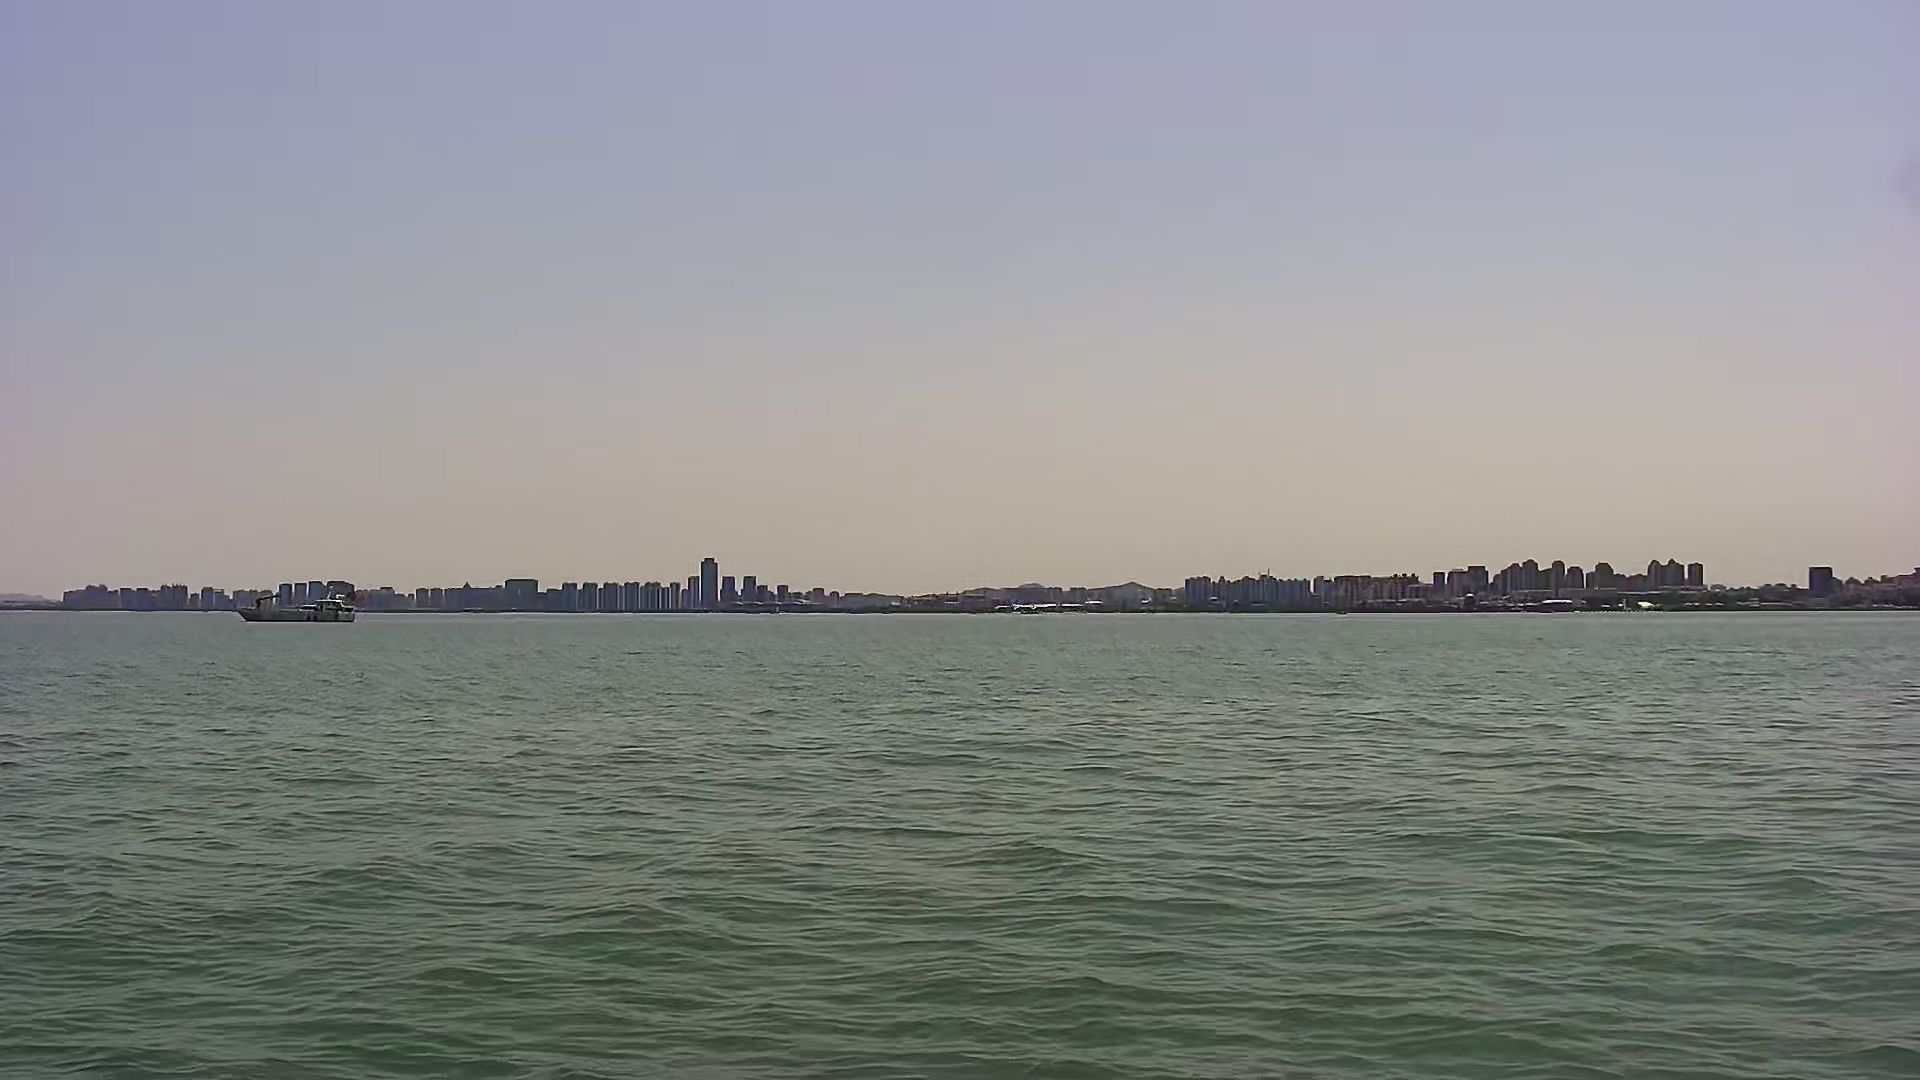ship: (236, 582, 364, 626)
